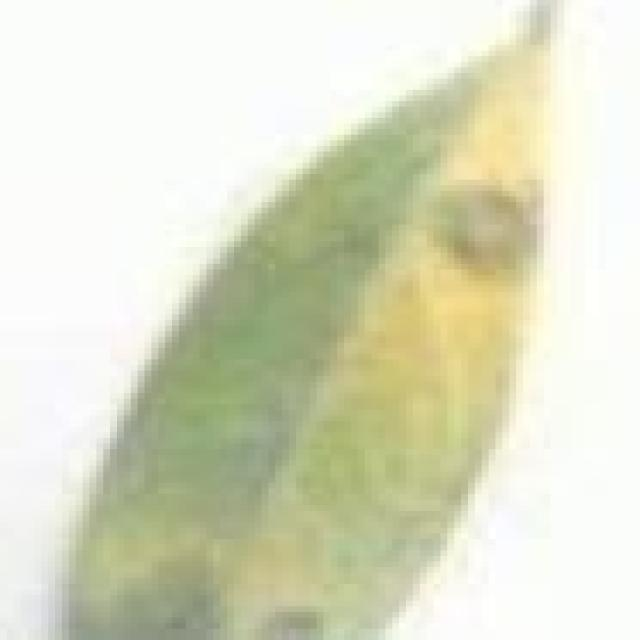OlivePeacockSpot: (69, 40, 537, 634)
